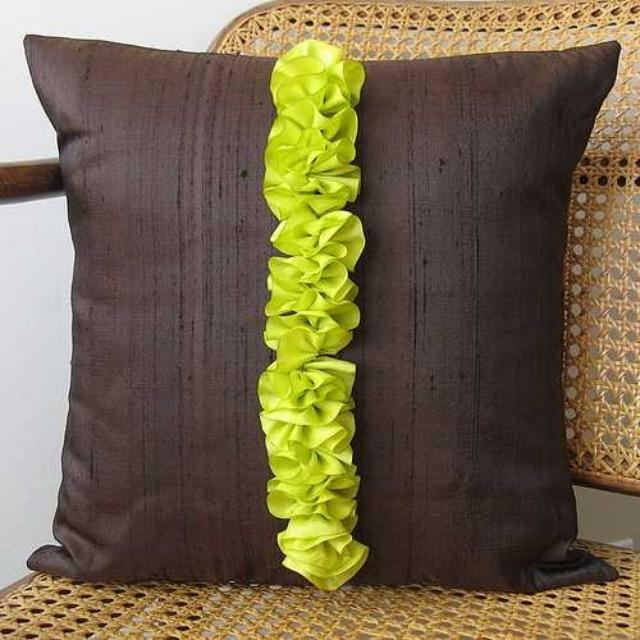pillow: (21, 32, 622, 592)
